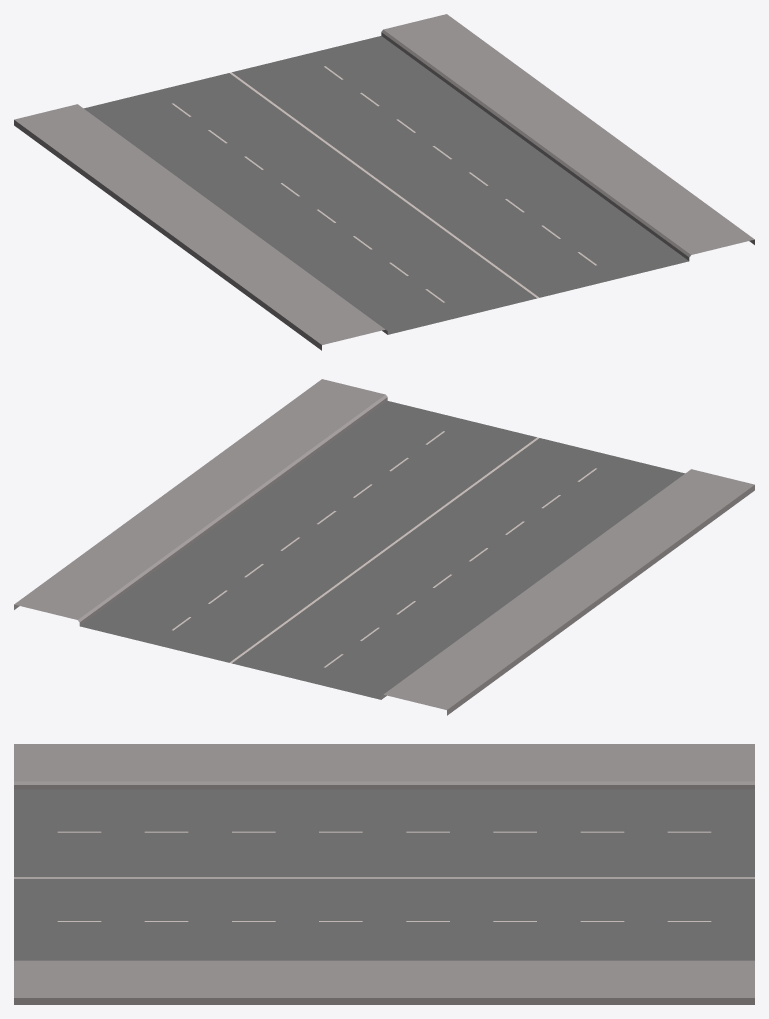
File: road_Straight_patch.fbx
3 renders of one model, top to bottom at view 1: azimuth 30°, elevation 25°; view 2: azimuth 150°, elevation 25°; view 3: azimuth 270°, elevation 25°, orthographic. The views are drawn at different scales.
Parts seen in each view (by area): view 1: road_Straight_patch; view 2: road_Straight_patch; view 3: road_Straight_patch.
Boxes of the visible parts, x1=… form: road_Straight_patch: x1=14, y1=14, x2=754, y2=350; road_Straight_patch: x1=14, y1=379, x2=754, y2=715; road_Straight_patch: x1=14, y1=744, x2=754, y2=1004.
Bounding box in the file's own units: 2066 × 26.46 × 2547.
